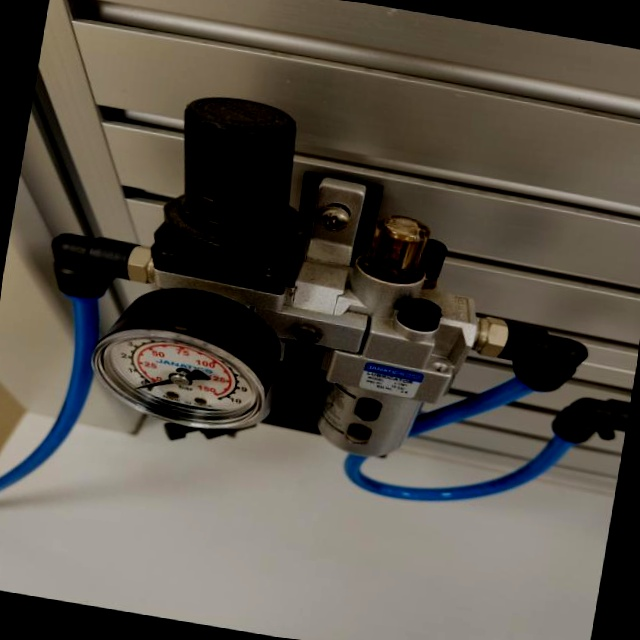FRL unit: (11, 60, 544, 519)
